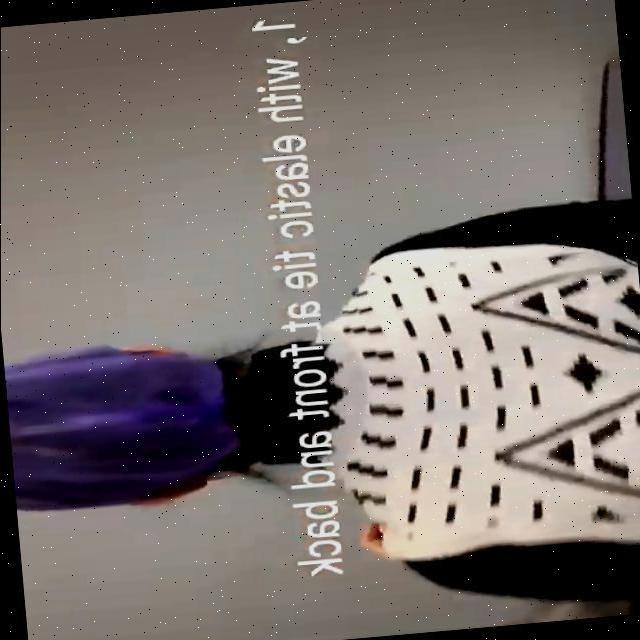gloves: (0, 346, 225, 506)
